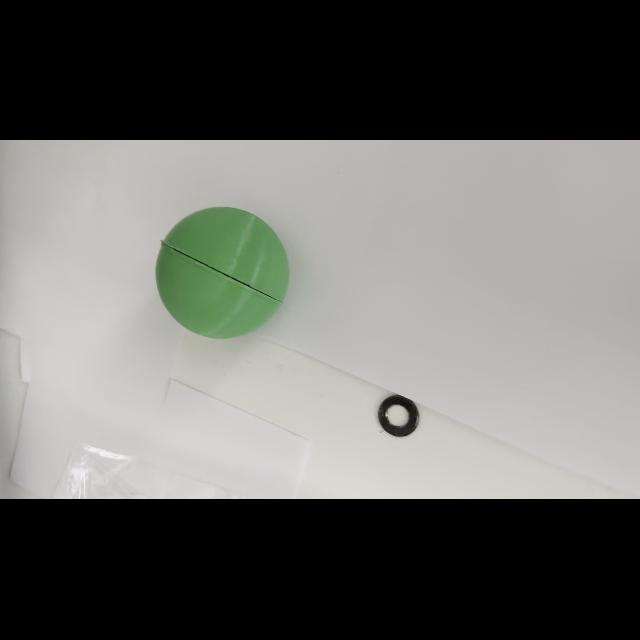objects: (150, 202, 292, 342)
